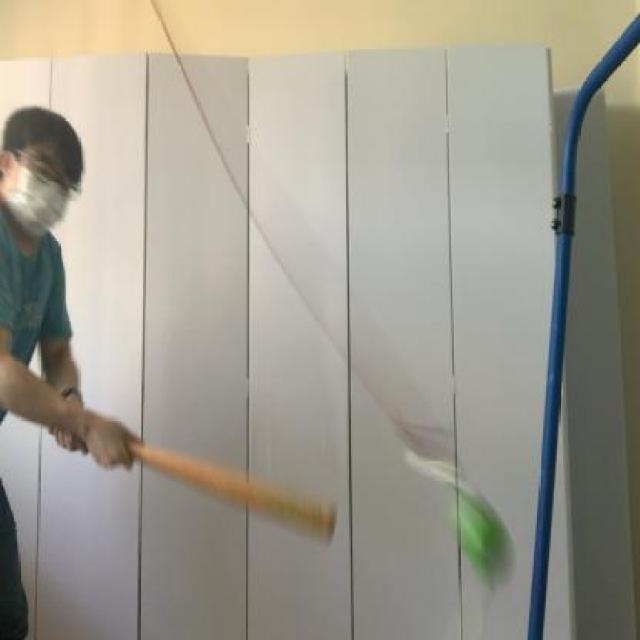baseball: (434, 483, 518, 592)
